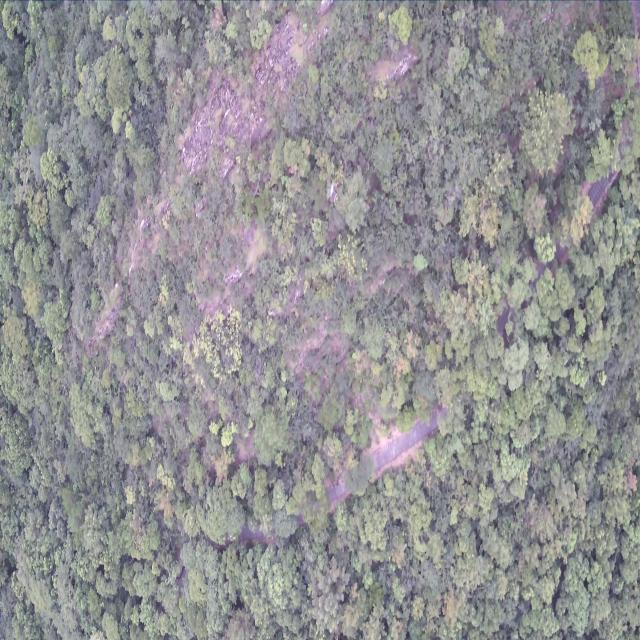drone: (324, 180, 339, 203)
